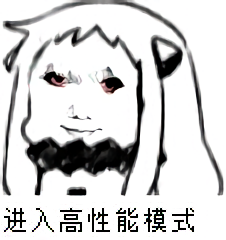dragon: (41, 69, 122, 135)
